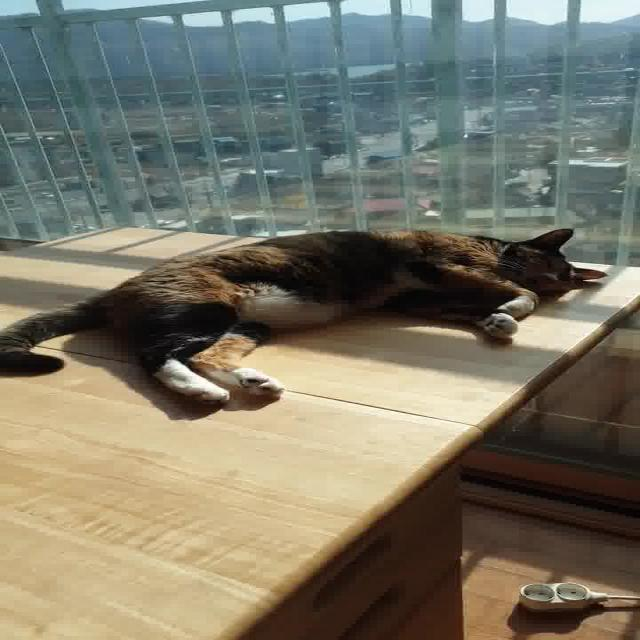cat: (2, 209, 634, 428)
